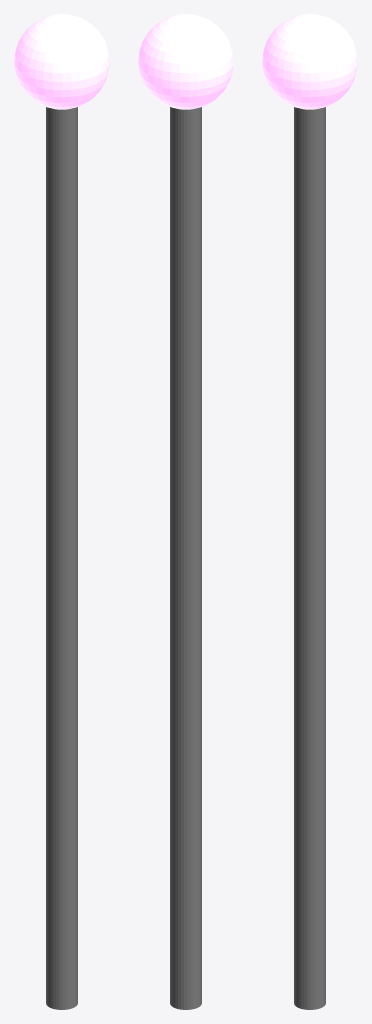
Rendered from street_light.glb.
The picture shows the model from 3 angles, left to right: view 1: azimuth 90°, elevation 25°; view 2: azimuth 150°, elevation 25°; view 3: azimuth 270°, elevation 25°; orthographic projection.
Parts seen in each view (by area): view 1: Light; view 2: Light; view 3: Light.
Boxes of the visible parts, left/top/right/bottom form: Light: left=14, top=14, right=109, bottom=1009; Light: left=138, top=14, right=233, bottom=1009; Light: left=262, top=14, right=357, bottom=1009.
Size of the model in its own units: 0.24 by 2.72 by 0.24.
